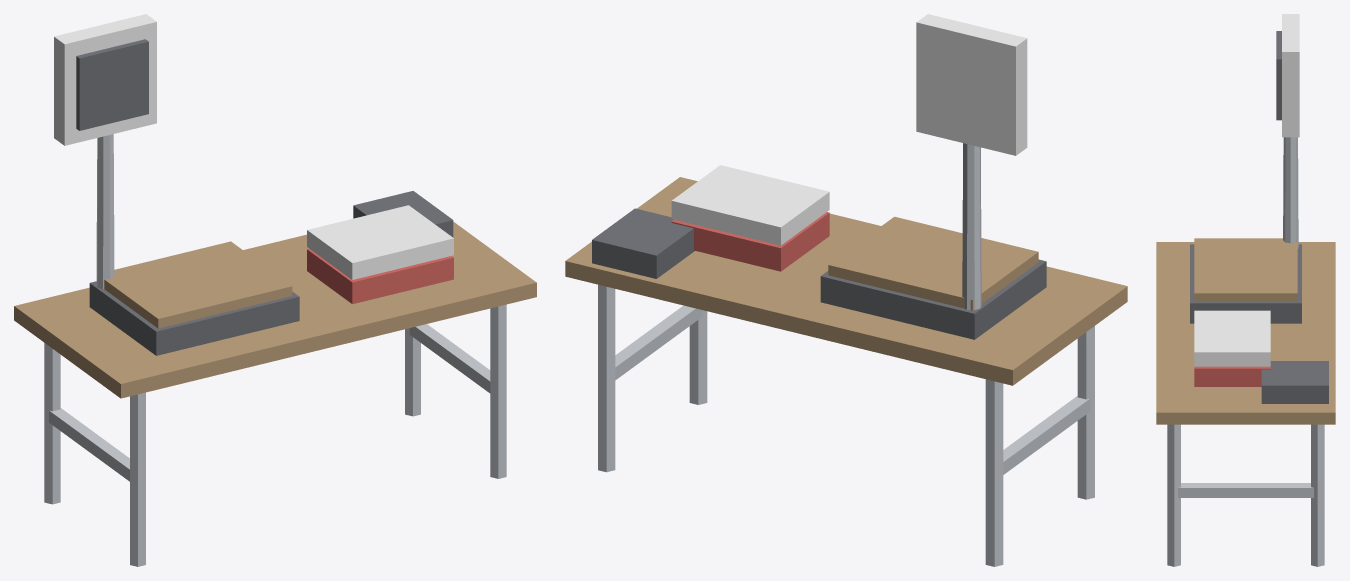
Rendered from racecourse-and-parade-ring-scales-and-trestle-c7922781__38620.glb.
The picture shows the model from 3 angles, left to right: view 1: azimuth 30°, elevation 25°; view 2: azimuth 150°, elevation 25°; view 3: azimuth 270°, elevation 25°; orthographic projection. The views are drawn at different scales.
Parts seen in each view (by area): view 1: scales-and-trestle; view 2: scales-and-trestle; view 3: scales-and-trestle.
Boxes of the visible parts, x1,y1,x2,y2 form: scales-and-trestle: [14, 14, 536, 566]; scales-and-trestle: [565, 14, 1127, 566]; scales-and-trestle: [1156, 14, 1335, 566].
Bounding box in the file's own units: 1.8 × 1.96 × 0.7999.
